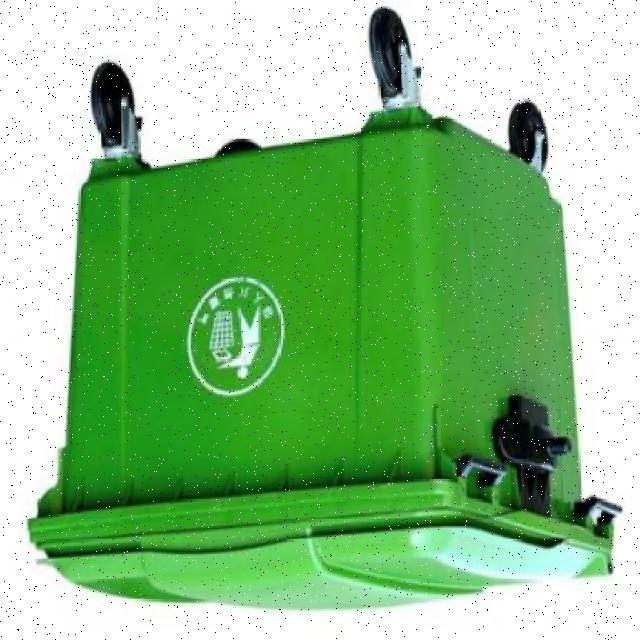garbage container: (9, 3, 635, 623)
